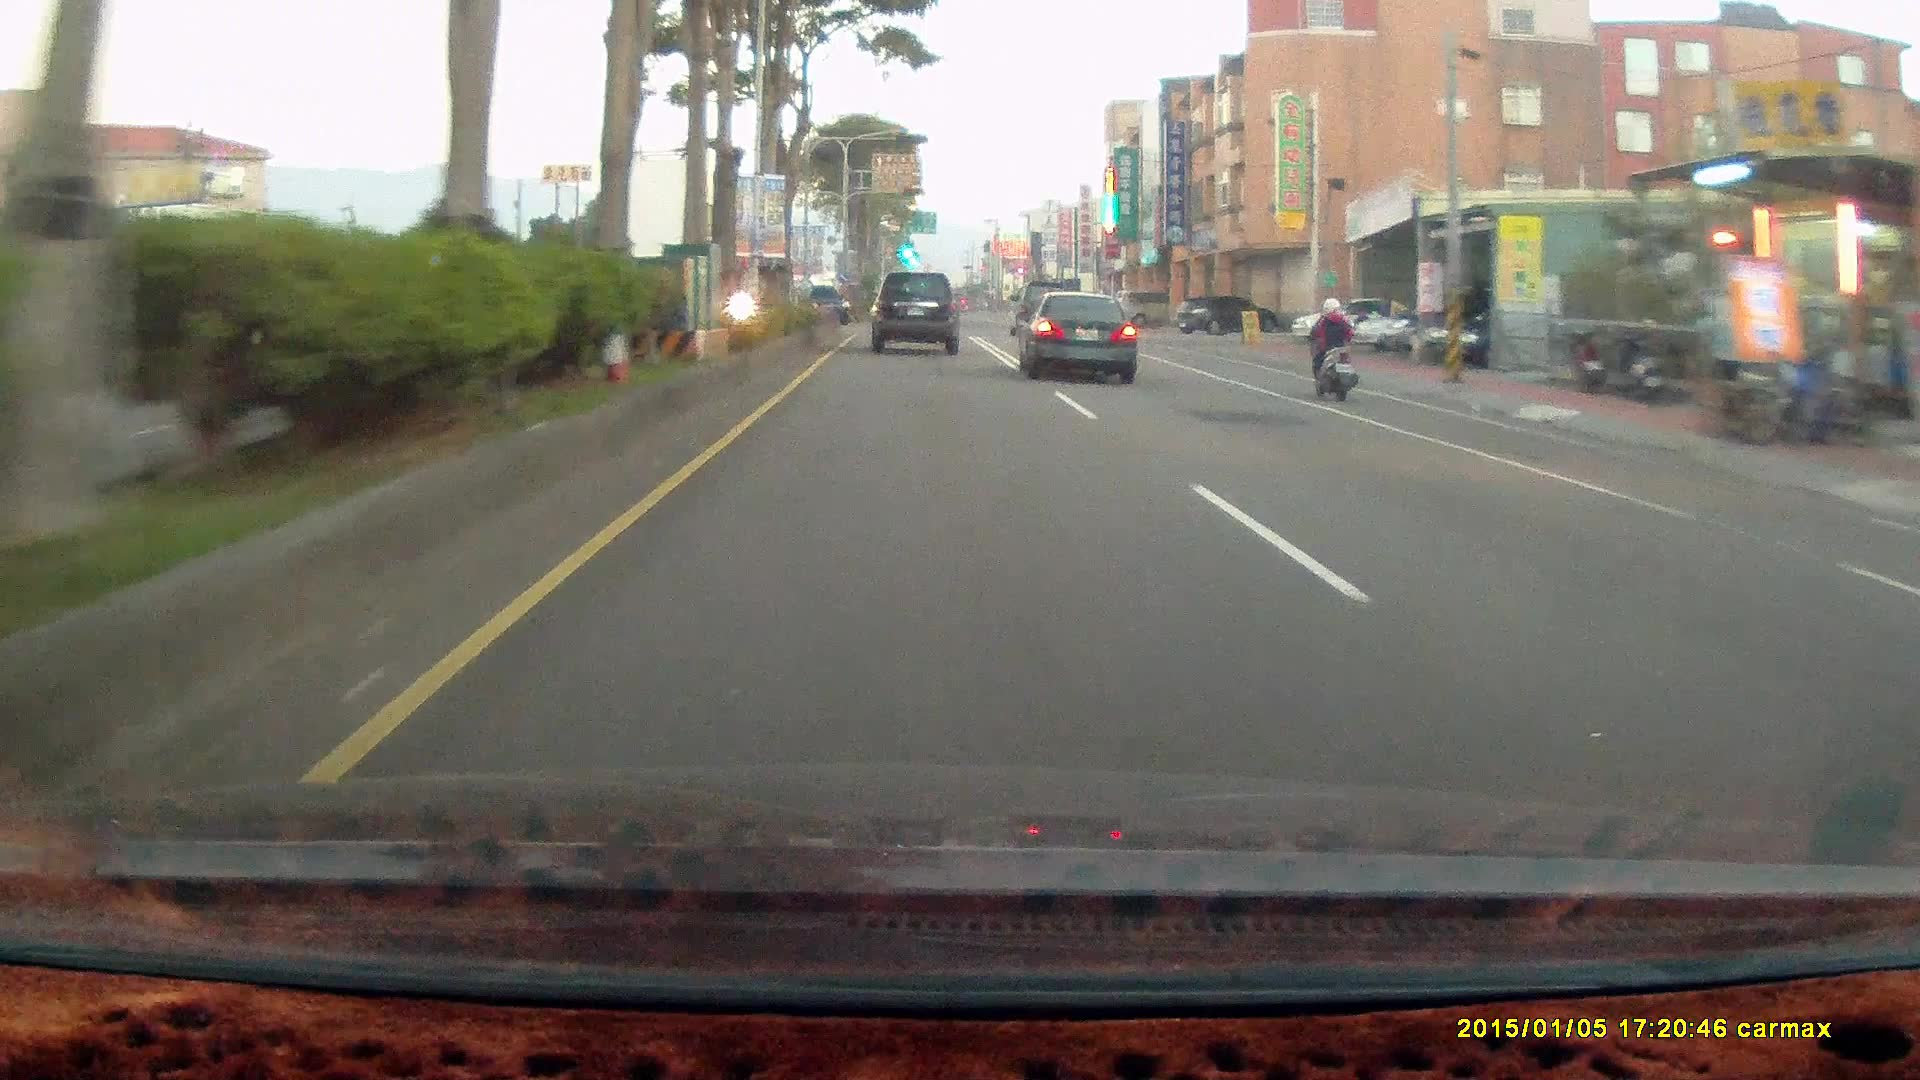rider: (1294, 288, 1370, 409), (1300, 291, 1358, 398)
vehicle: (1021, 291, 1144, 387), (1015, 289, 1135, 382), (1441, 300, 1586, 369), (872, 269, 965, 357), (869, 271, 960, 355), (1288, 295, 1424, 348), (1386, 292, 1497, 356), (1176, 296, 1272, 341), (1357, 305, 1453, 351), (1174, 294, 1279, 334), (1116, 288, 1193, 327), (798, 284, 852, 324)
